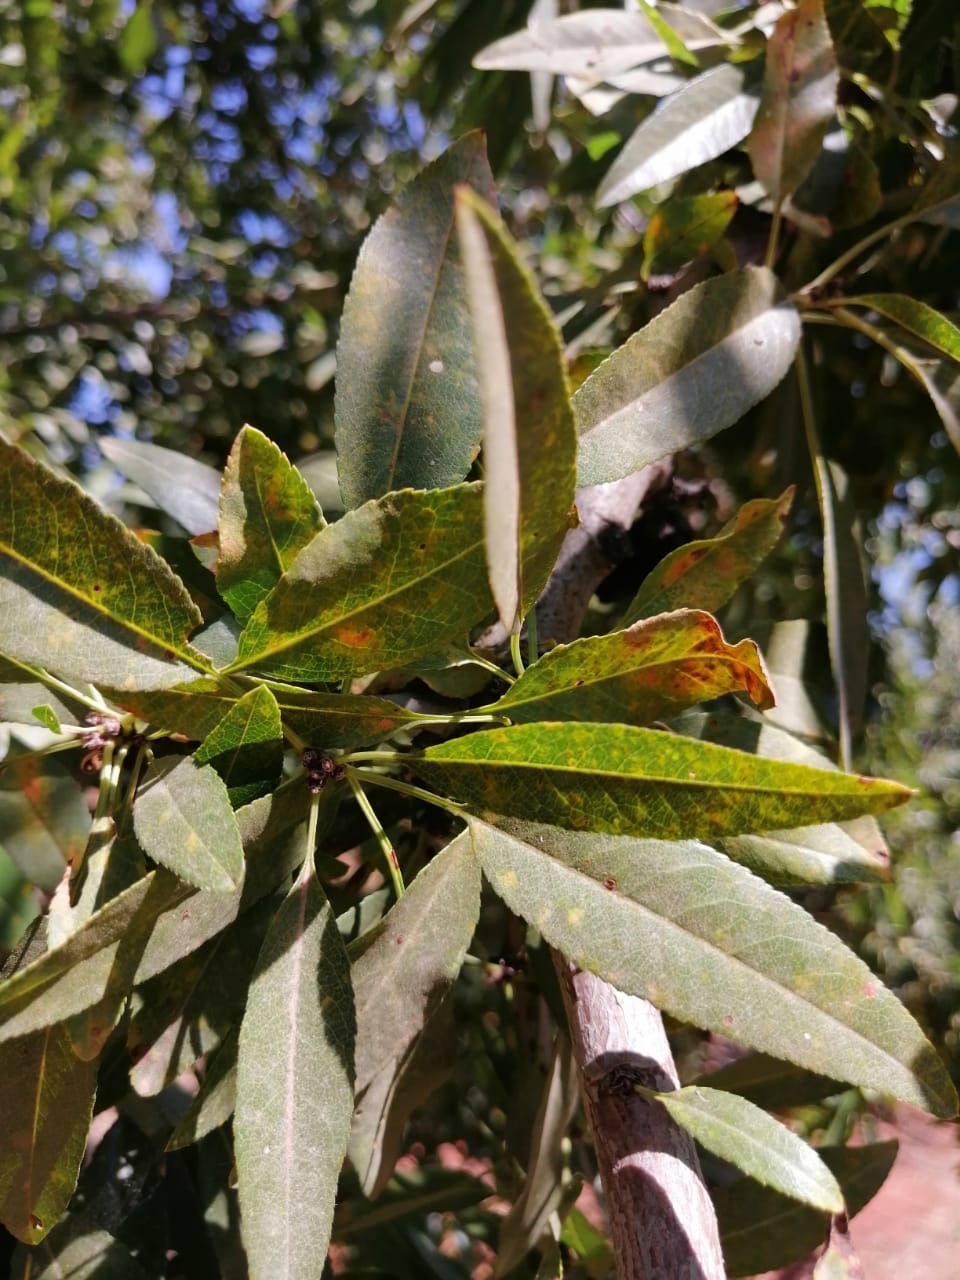rouille: (465, 788, 960, 1121), (398, 719, 919, 841), (449, 183, 580, 634), (233, 483, 524, 681), (1, 440, 221, 692), (346, 841, 486, 1092), (495, 604, 776, 726), (751, 3, 842, 204)
